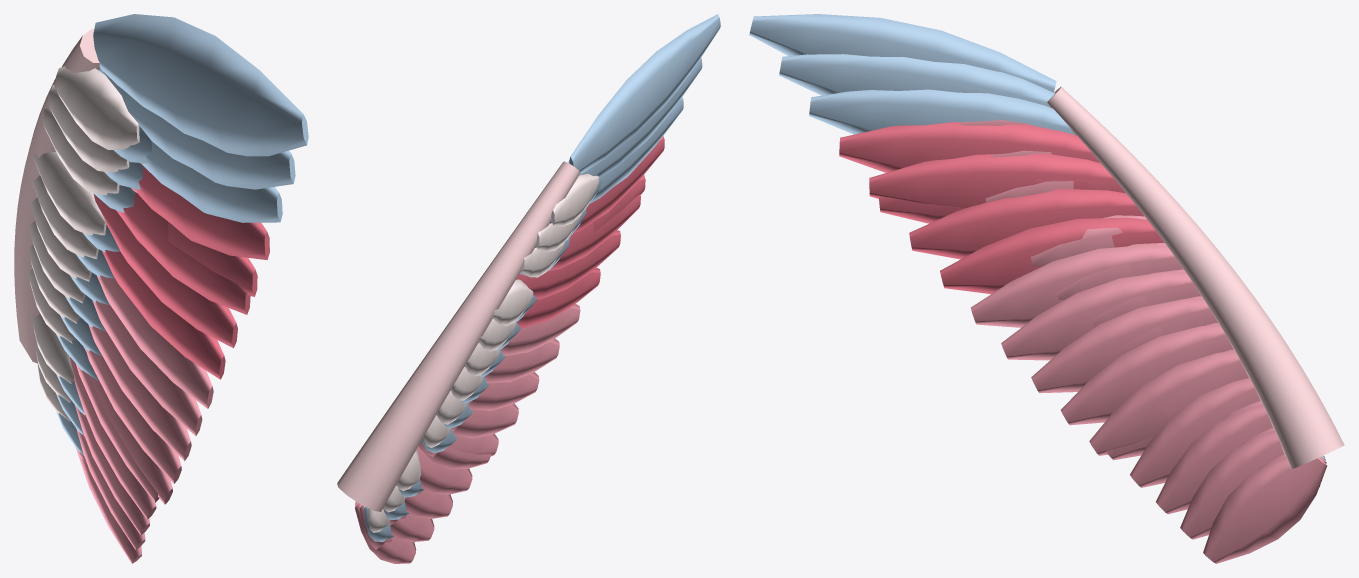
The model's file is FlamingoWingL.glb.
3 renders of one model, left to right at view 1: azimuth 30°, elevation 25°; view 2: azimuth 150°, elevation 25°; view 3: azimuth 270°, elevation 25°, orthographic. The views are drawn at different scales.
Parts seen in each view (by area): view 1: FlamingoWingL__PaleBlue, FlamingoWingL__PinkWing, FlamingoWingL__CreamWhite, FlamingoWingL__Coral, FlamingoWingL__Cream; view 2: FlamingoWingL__Cream, FlamingoWingL__PaleBlue, FlamingoWingL__PinkWing, FlamingoWingL__CreamWhite, FlamingoWingL__Coral; view 3: FlamingoWingL__PinkWing, FlamingoWingL__Coral, FlamingoWingL__PaleBlue, FlamingoWingL__Cream.
Boxes of the visible parts, <box> form: FlamingoWingL__PaleBlue: <box>56,14,308,456</box>; FlamingoWingL__PinkWing: <box>70,163,213,563</box>; FlamingoWingL__CreamWhite: <box>28,66,139,421</box>; FlamingoWingL__Coral: <box>93,166,269,379</box>; FlamingoWingL__Cream: <box>14,29,100,363</box>; FlamingoWingL__Cream: <box>337,161,580,511</box>; FlamingoWingL__PaleBlue: <box>364,14,720,541</box>; FlamingoWingL__PinkWing: <box>355,273,580,563</box>; FlamingoWingL__CreamWhite: <box>368,173,598,532</box>; FlamingoWingL__Coral: <box>516,136,664,327</box>; FlamingoWingL__PinkWing: <box>960,120,1327,563</box>; FlamingoWingL__Coral: <box>839,122,1164,294</box>; FlamingoWingL__PaleBlue: <box>749,14,1325,460</box>; FlamingoWingL__Cream: <box>1047,87,1344,469</box>.
Bounding box in the file's own units: 1.17 × 3.6 × 3.94.
